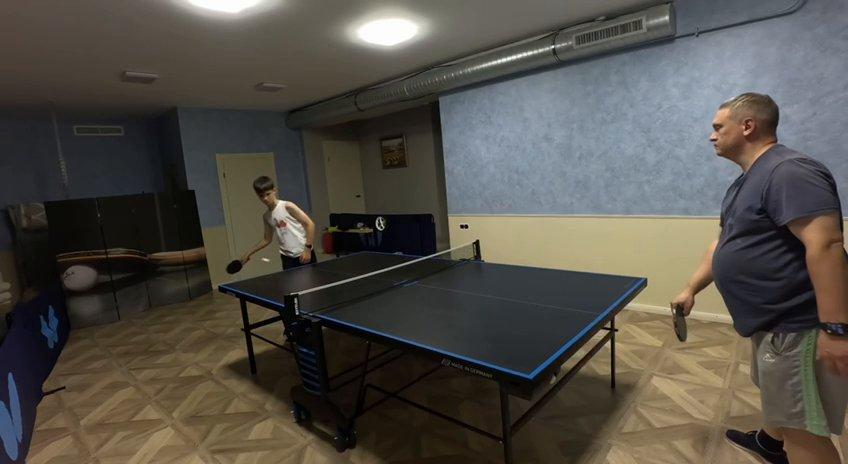Ball: (260, 257, 271, 263)
Net: (282, 241, 482, 325)
Player1: (240, 176, 315, 268)
Player2: (671, 93, 847, 463)
Table: (224, 251, 646, 379)
